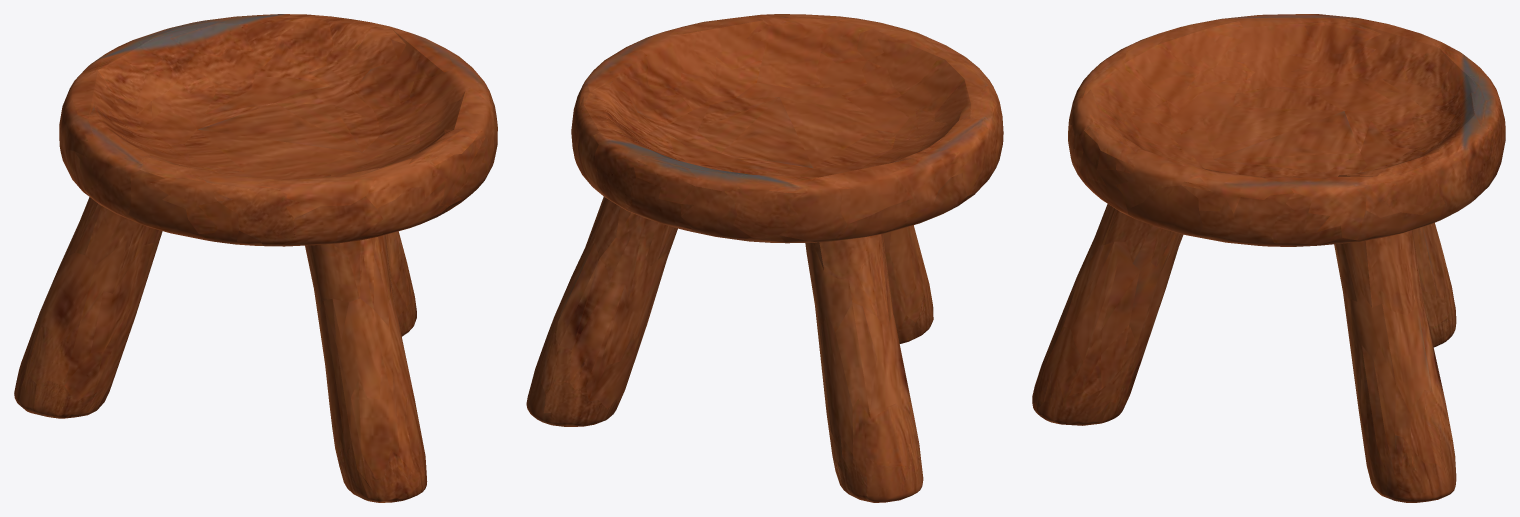
File: stool.glb
3 renders of one model, left to right at view 1: azimuth 30°, elevation 25°; view 2: azimuth 150°, elevation 25°; view 3: azimuth 270°, elevation 25°, orthographic.
Visible parts, largest first — view 1: output_unwrapped; view 2: output_unwrapped; view 3: output_unwrapped.
Boxes of the visible parts, x1,y1,x2,y2 form: output_unwrapped: (14, 14, 497, 502); output_unwrapped: (526, 14, 1003, 502); output_unwrapped: (1032, 14, 1505, 502).
Size of the model in its own units: 0.4685 by 0.36 by 0.4896.
Materials: 1 (1 with a texture image).
